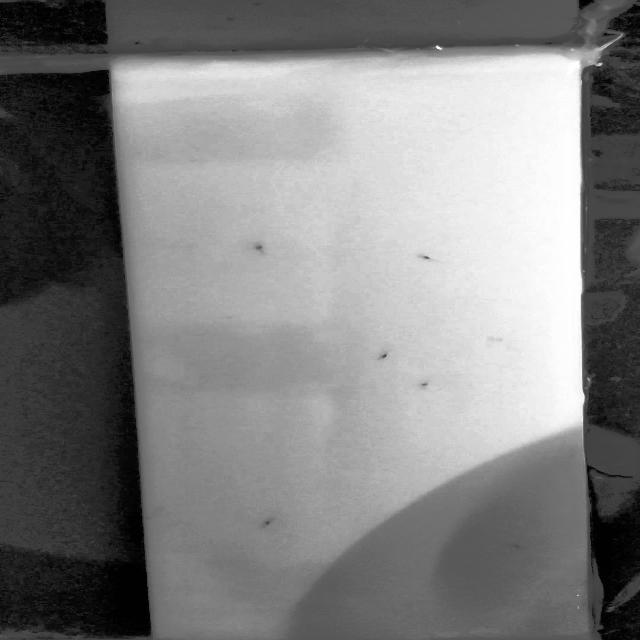shrimp: (236, 234, 278, 256), (501, 536, 536, 560), (404, 375, 442, 392), (412, 249, 443, 269), (368, 346, 400, 364), (252, 516, 286, 530)
